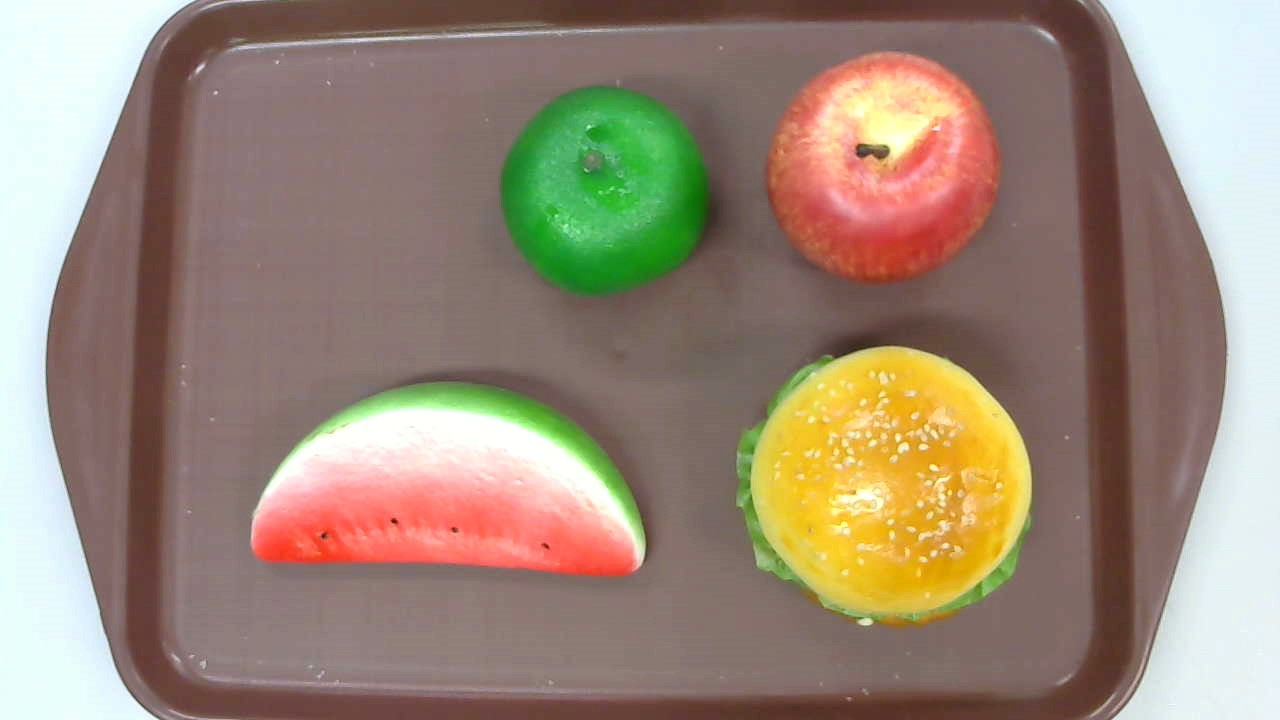green orange: (499, 85, 710, 298)
hamburger: (735, 343, 1036, 627)
red apple: (764, 49, 1003, 285)
watermelon: (251, 381, 646, 577)
